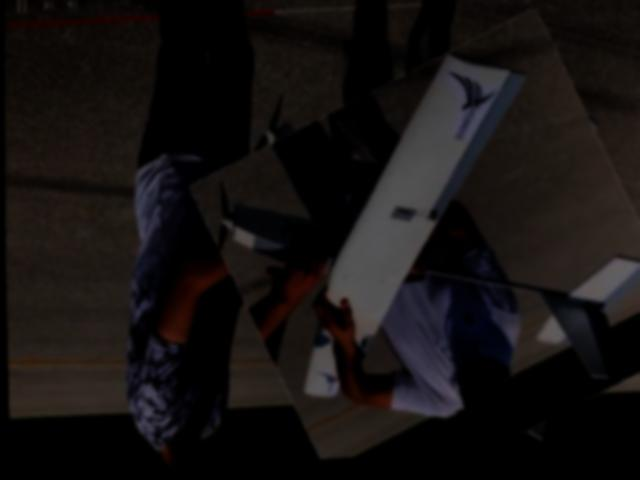insansiz-hava-araci: (212, 34, 640, 469)
